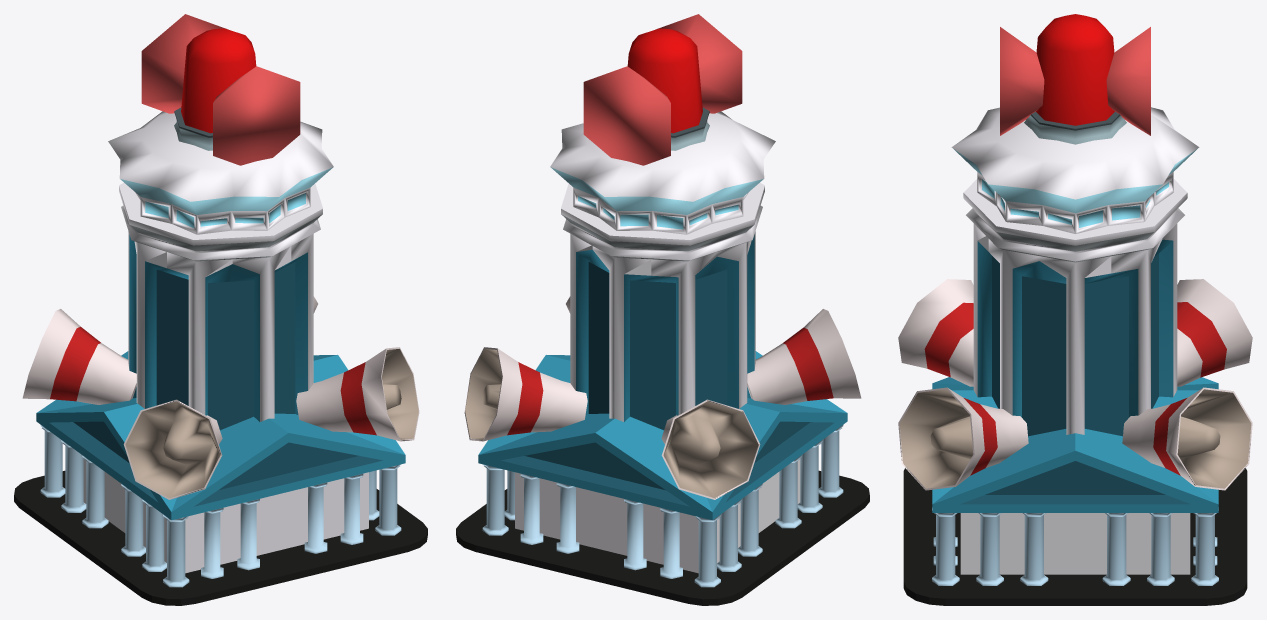
The model's file is Sirine_Building_w_animation.glb.
3 views of the same model, side by side, from view 1: azimuth 30°, elevation 25°; view 2: azimuth 150°, elevation 25°; view 3: azimuth 270°, elevation 25° (orthographic). The views are drawn at different scales.
Parts seen in each view (by area): view 1: Sirine_Building_A, Sirine_Building_B; view 2: Sirine_Building_A, Sirine_Building_B; view 3: Sirine_Building_A, Sirine_Building_B.
Boxes of the visible parts, box(x1,y1,x2,y2) form: Sirine_Building_A: box(14, 28, 427, 605); Sirine_Building_B: box(141, 14, 300, 165); Sirine_Building_A: box(456, 28, 869, 605); Sirine_Building_B: box(583, 14, 742, 165); Sirine_Building_A: box(898, 14, 1252, 605); Sirine_Building_B: box(1000, 27, 1150, 135).
Bounding box in the file's own units: 3.19 × 5.09 × 3.19.
1 material, 1 textured.
